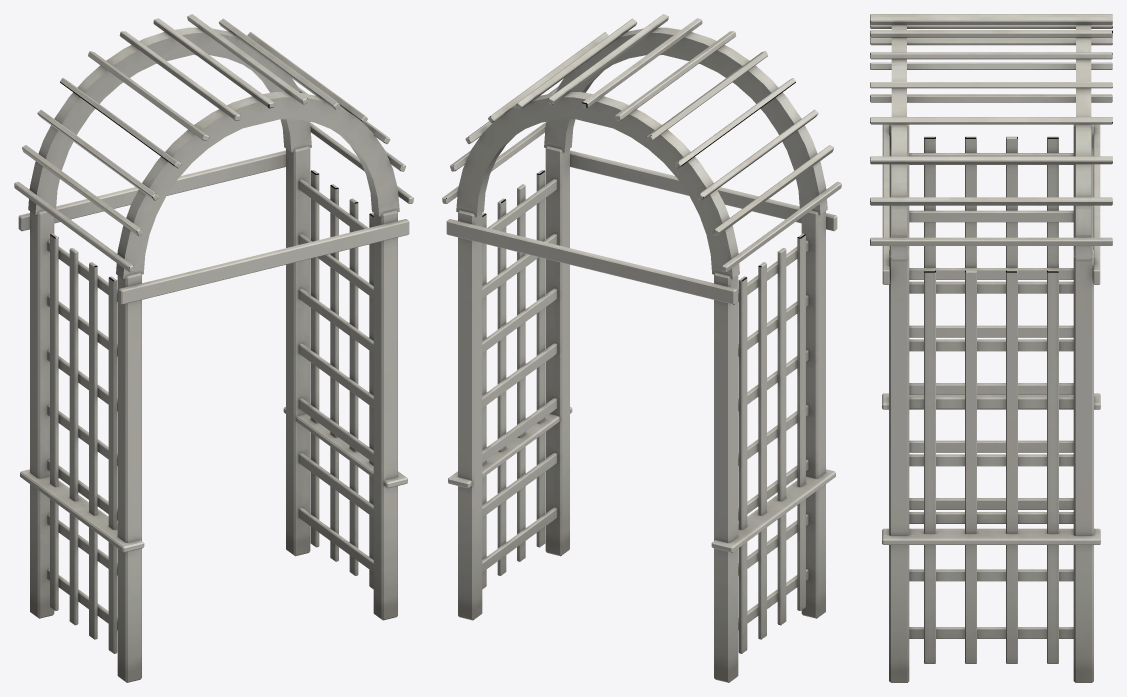
The model's file is garden_arbor-low.glb.
3 renders of one model, left to right at view 1: azimuth 30°, elevation 25°; view 2: azimuth 150°, elevation 25°; view 3: azimuth 270°, elevation 25°, orthographic. The views are drawn at different scales.
Parts seen in each view (by area): view 1: garden_arbor; view 2: garden_arbor; view 3: garden_arbor.
Boxes of the visible parts, bbox=[...] form: garden_arbor: bbox=[14, 14, 413, 682]; garden_arbor: bbox=[442, 14, 841, 682]; garden_arbor: bbox=[870, 14, 1112, 682].
Bounding box in the file's own units: 1.47 × 2.7 × 1.02.
Materials: 1 (1 with a texture image).
